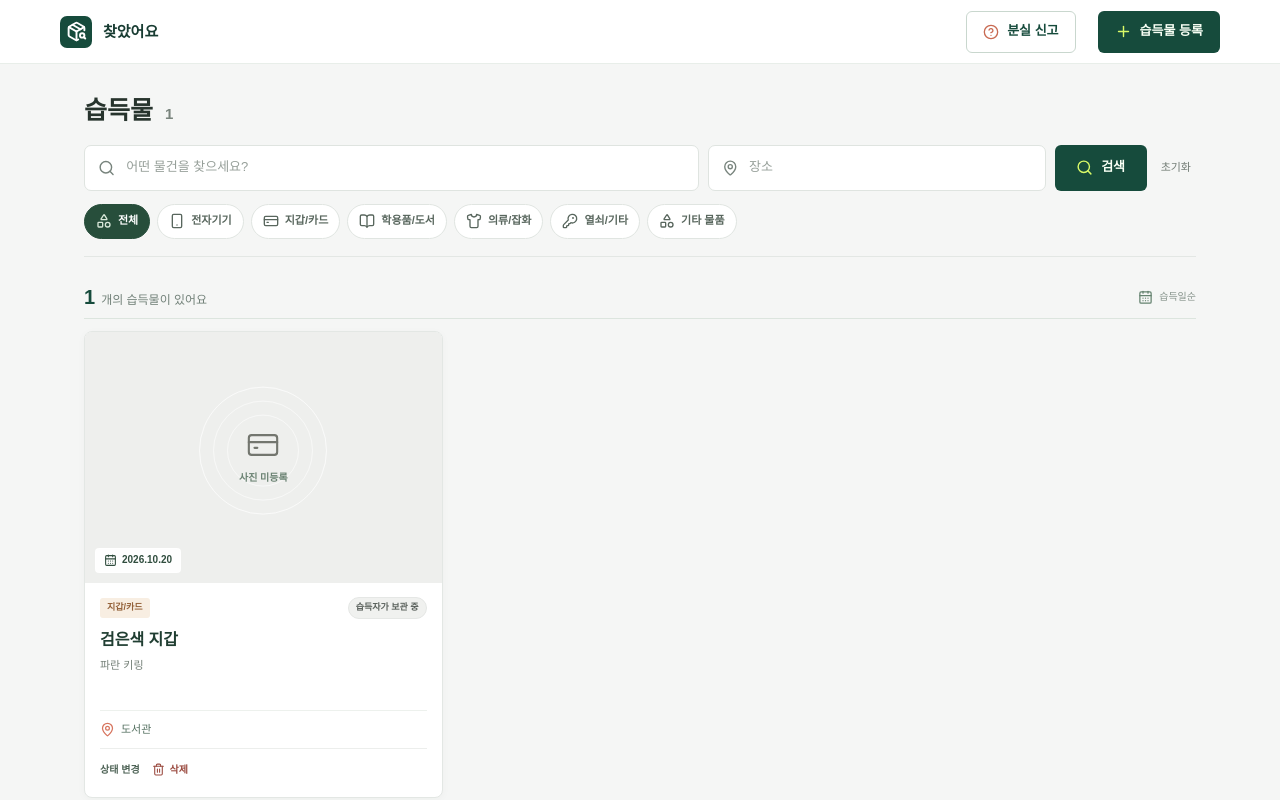
Test: app shell › lets the poster change a saved custody status
Click the button with aria-label "검은색 지갑 보관 상태 변경": (120, 769) [100,756,140,782]
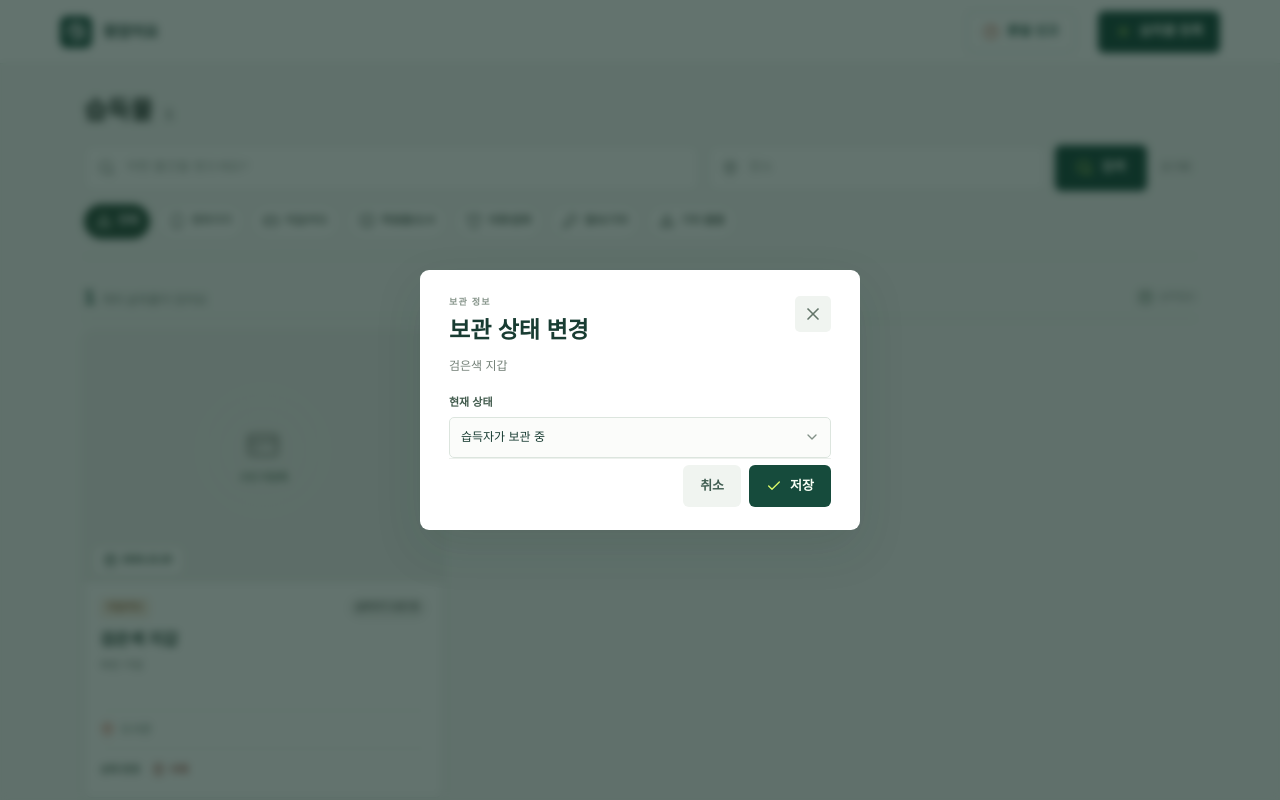
Select "학생회실에 맡김" in the dropdown: (640, 437) [449,417,831,458]
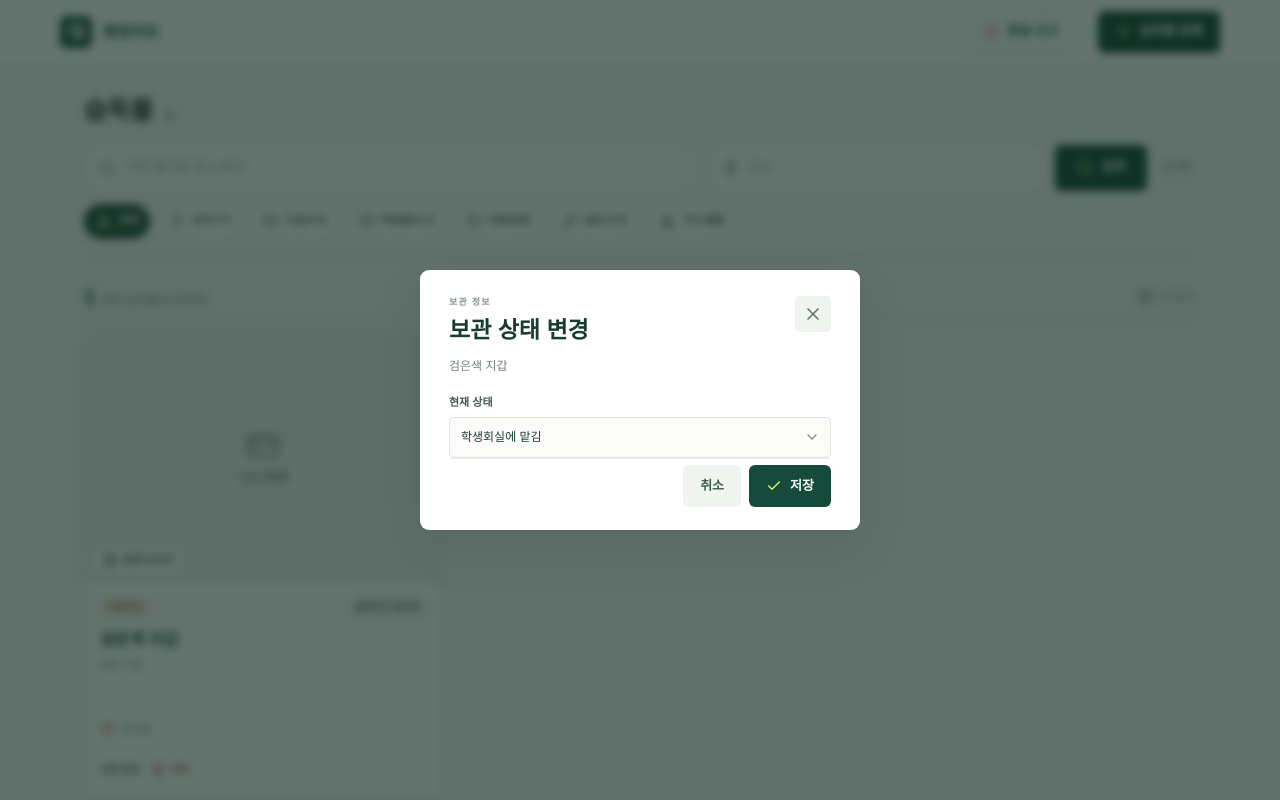
Click the button "저장": (790, 486) [749,465,831,507]
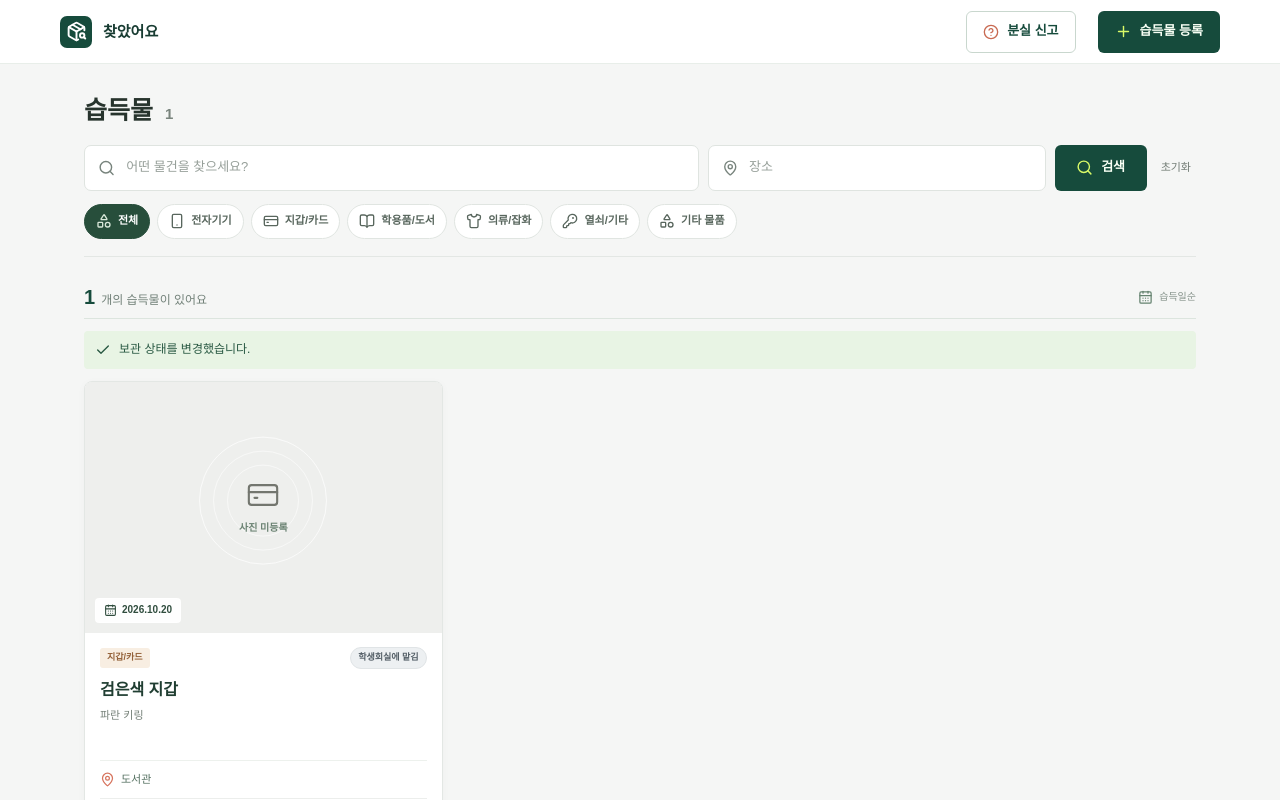
Expected: the text "학생회실에 맡김" is shown, [350,647,427,669]
